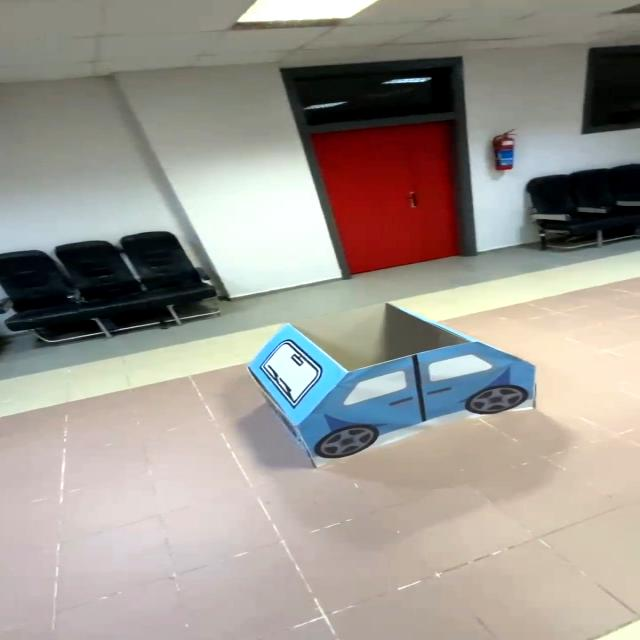blue_car: (211, 282, 552, 479)
